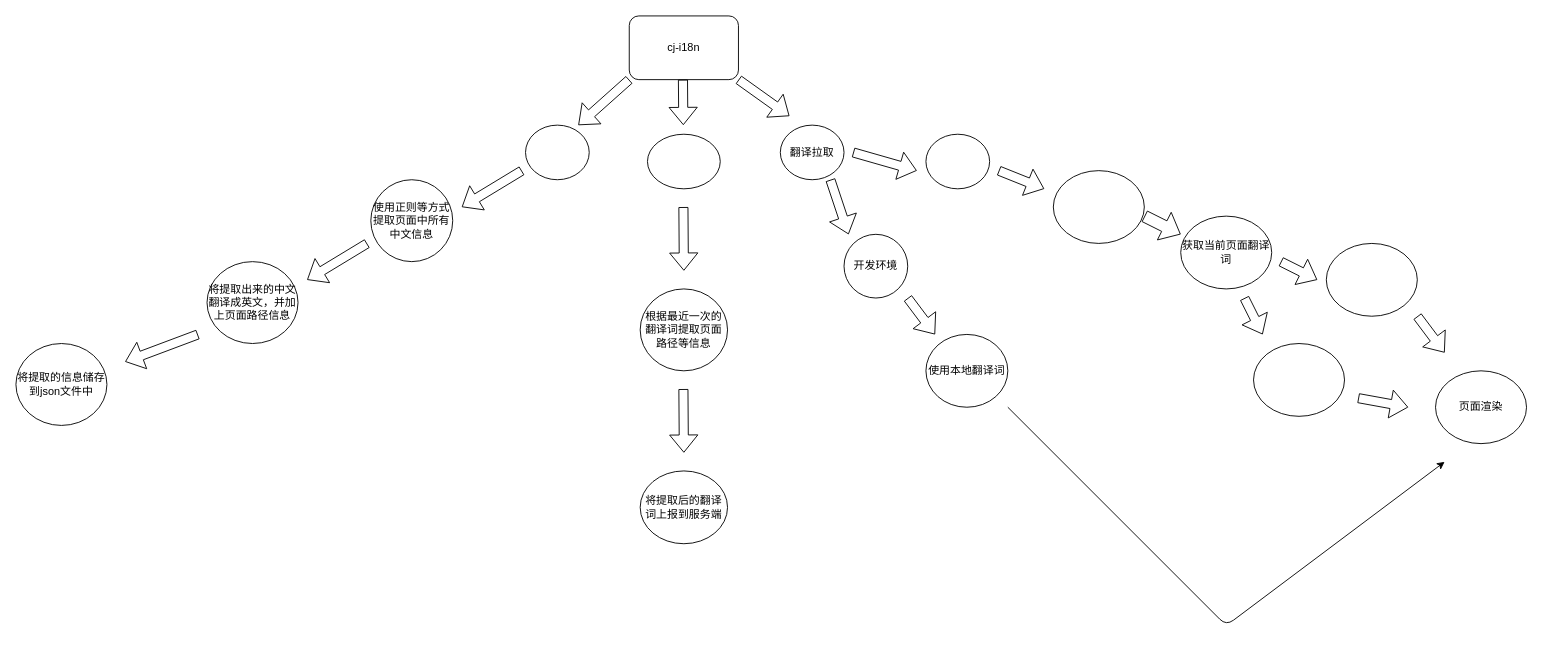
This 1542x649 diagram has some shape labels left out. The shapes that lost their labels are listed below. From the top down, each one's centre as x and y in pixels, then its label:
At point 557,152: "翻译提取".
At point 683,161: "翻译上报".
At point 957,161: "生产环境".
At point 1098,206: "拉取本地兜底数据到静态资源目录".
At point 1371,279: "服务端翻译数据".
At point 1299,379: "本地兜底数据".
